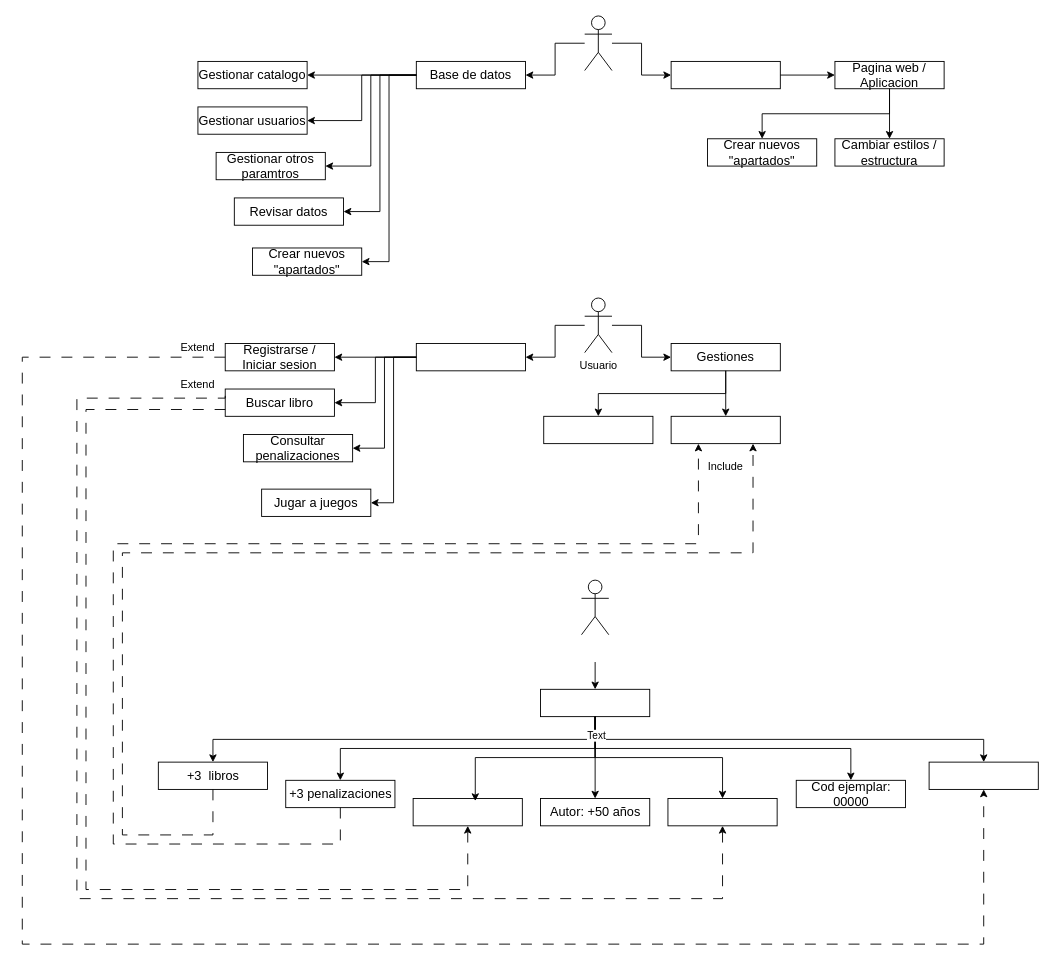
Image size: 1055x967. Some labels were removed from this diagram. The shapes that lost their labels are listed below. From the top down, each one's centre as x and y in pixels, then its label:
At [598,43]: "Programador".
At [725,75]: "Codigo".
At [470,357]: "Consultas".
At [598,429]: "Devolver libro".
At [725,429]: "Solicitar libro".
At [595,607]: "Sistema".
At [595,702]: "Verifica".
At [983,775]: "Validar edad minima".
At [467,812]: "+500 paginas".
At [722,812]: "Genero: +18".
